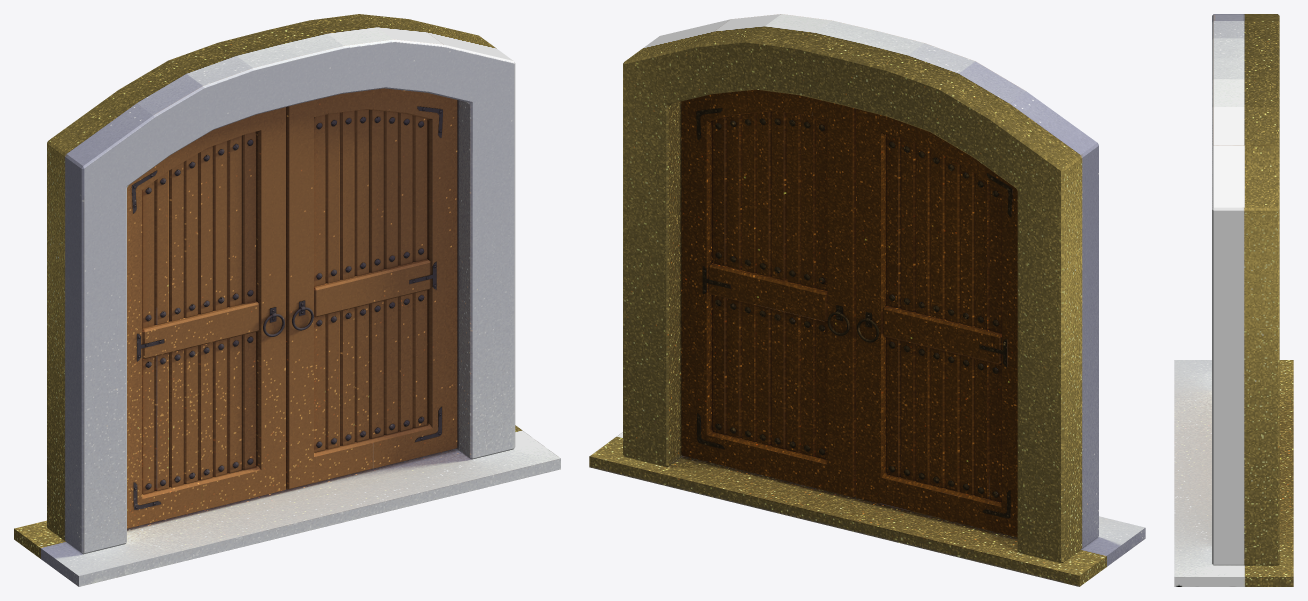
The model's file is WoodDoubleDoor.obj.
3 renders of one model, left to right at view 1: azimuth 30°, elevation 25°; view 2: azimuth 150°, elevation 25°; view 3: azimuth 270°, elevation 25°, orthographic. The views are drawn at different scales.
Parts seen in each view (by area): view 1: Plane.002; view 2: Plane.002; view 3: Plane.002.
Boxes of the visible parts, x1,y1,x2,y2 form: Plane.002: (14, 14, 560, 586); Plane.002: (589, 14, 1145, 586); Plane.002: (1174, 14, 1293, 586).
Size of the model in its own units: 7.32 by 6.62 by 1.71.
1 material, 1 textured.
